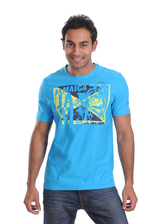clothoes: (35, 62, 134, 192)
